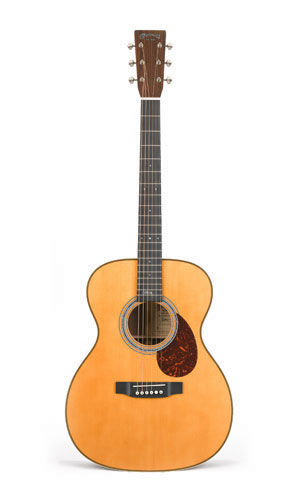guitar: (66, 29, 234, 472)
